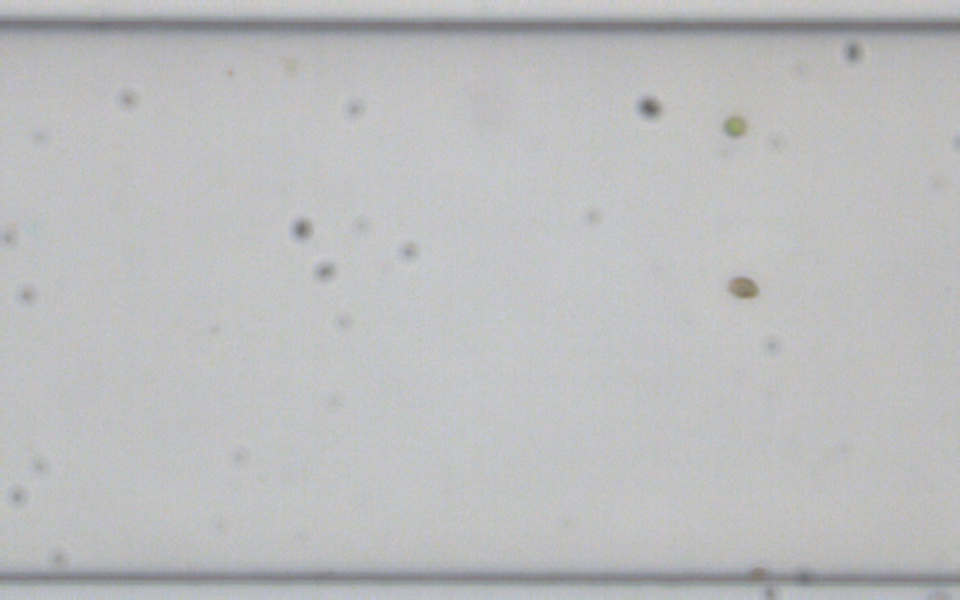Chlorella: (723, 114, 745, 136)
Dunaliella salina: (725, 273, 760, 299)
